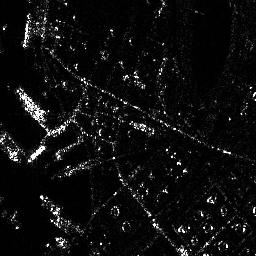ship: (17, 87, 48, 121), (25, 144, 46, 163)
